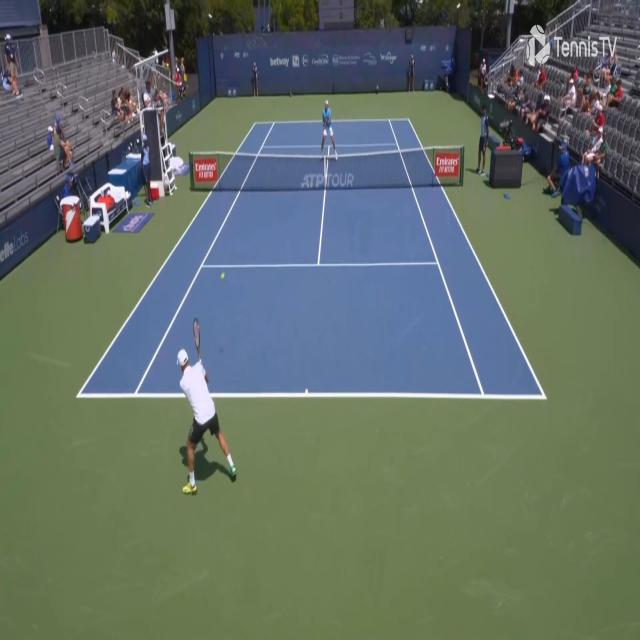tennis-player: (174, 257, 244, 498), (319, 98, 339, 165)
